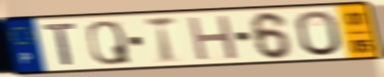6: (249, 10, 295, 60)
H: (185, 13, 240, 63)
O: (293, 9, 345, 58)
Q: (85, 19, 134, 67)
T: (143, 15, 179, 65), (42, 22, 79, 67)
